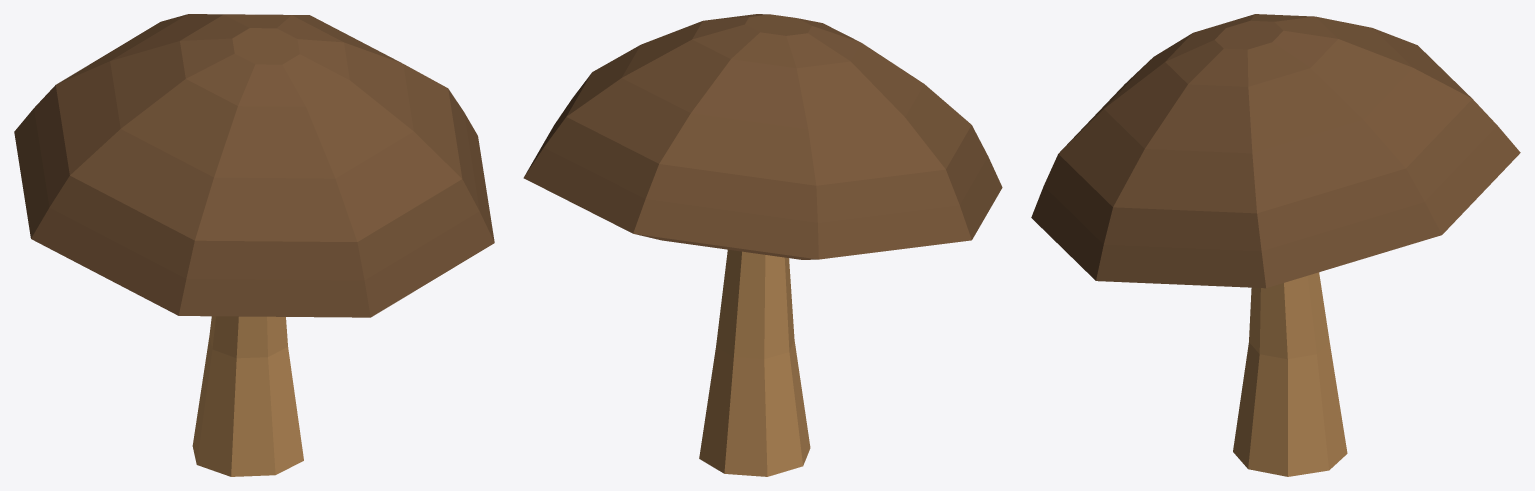
Rendered from RW_mushroom_brown_single.fbx.
3 views of the same model, side by side, from view 1: azimuth 30°, elevation 25°; view 2: azimuth 150°, elevation 25°; view 3: azimuth 270°, elevation 25° (orthographic). The views are drawn at different scales.
Parts seen in each view (by area): view 1: Circle.013; view 2: Circle.013; view 3: Circle.013.
Part boxes in pixels (x1,y1,x2,y2): Circle.013: [14, 14, 494, 476]; Circle.013: [523, 14, 1002, 476]; Circle.013: [1031, 14, 1520, 476].
Bounding box in the file's own units: 1.37 × 1.28 × 1.35.
